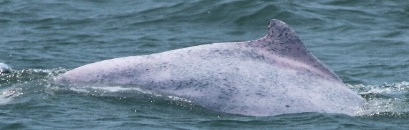fin: (44, 14, 375, 121)
